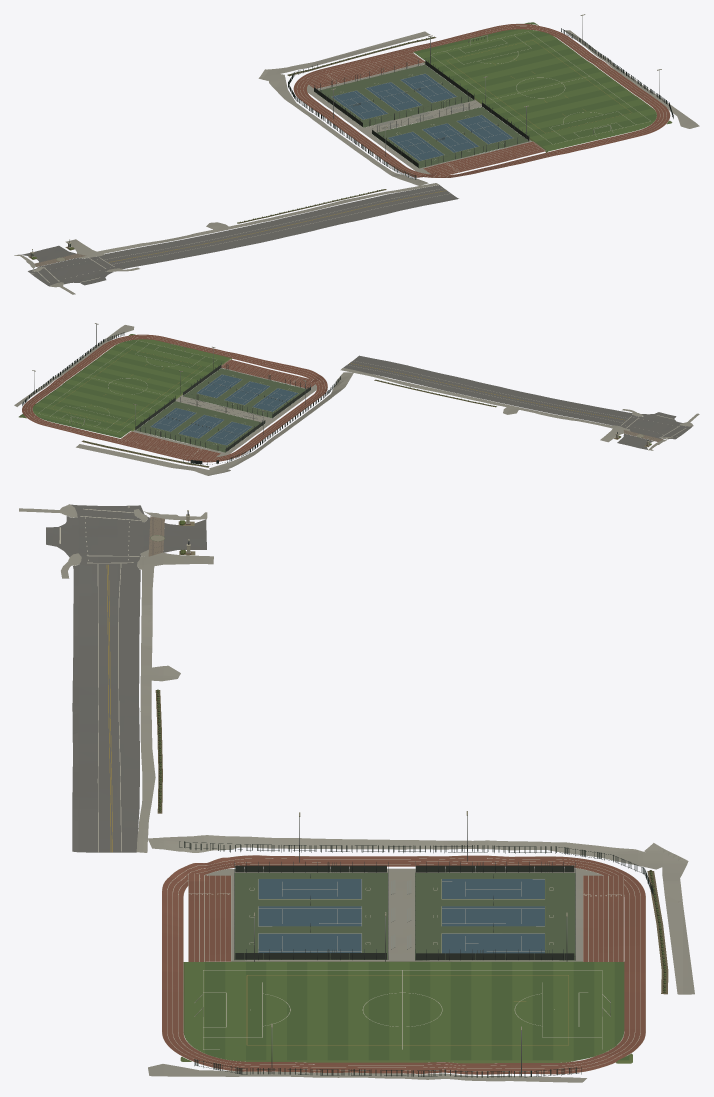
Rendered from site.glb.
The picture shows the model from 3 angles, top to bottom: view 1: azimuth 30°, elevation 25°; view 2: azimuth 150°, elevation 25°; view 3: azimuth 270°, elevation 25°; orthographic projection. The views are drawn at different scales.
Visible parts, largest first — view 1: hayward-square-track-ground, hayward-square-track-courts-and-southgate, hayward-square-track-planting; view 2: hayward-square-track-ground, hayward-square-track-courts-and-southgate, hayward-square-track-planting; view 3: hayward-square-track-ground, hayward-square-track-courts-and-southgate.
Part boxes in pixels (box(x1,y1,x2,y2)): hayward-square-track-ground: box(14, 22, 699, 294); hayward-square-track-courts-and-southgate: box(30, 14, 673, 257); hayward-square-track-planting: box(31, 37, 434, 259); hayward-square-track-ground: box(14, 325, 699, 475); hayward-square-track-courts-and-southgate: box(22, 323, 649, 464); hayward-square-track-planting: box(83, 379, 651, 466); hayward-square-track-ground: box(19, 504, 694, 1082); hayward-square-track-courts-and-southgate: box(179, 510, 653, 1077).
Bounding box in the file's own units: 293 × 13.9 × 156.
